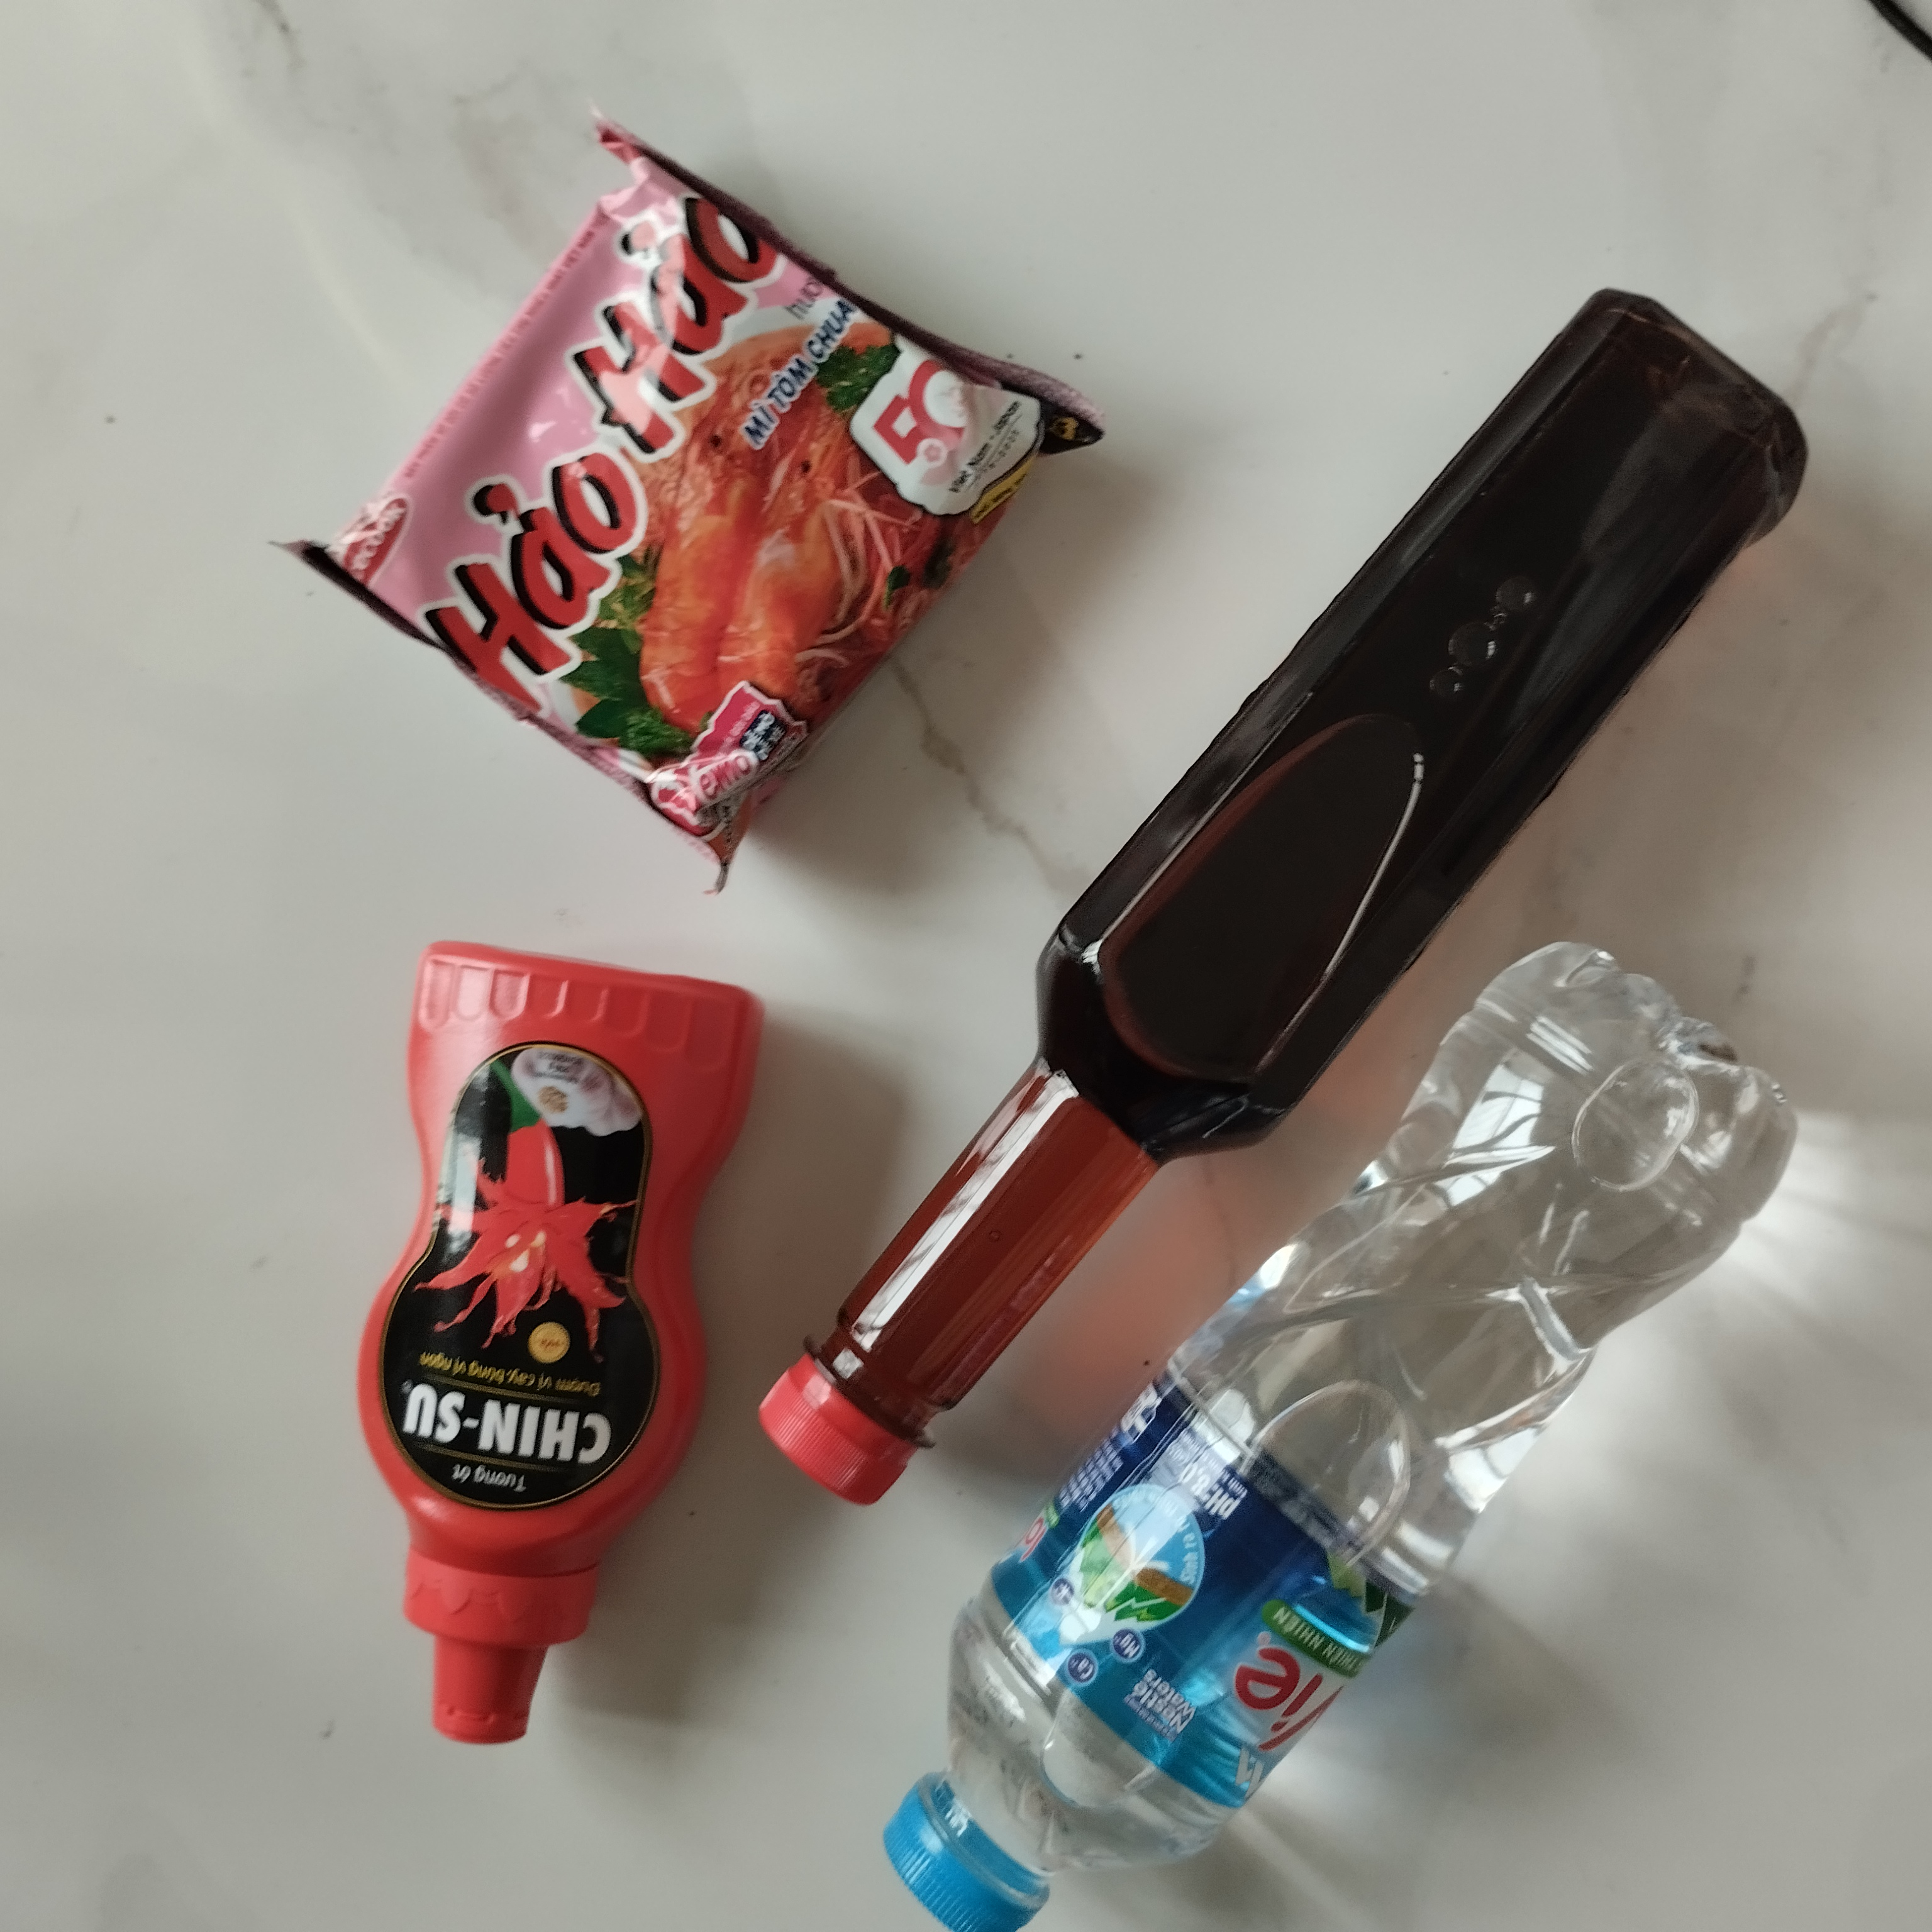Chinsu: (352, 932, 775, 1753)
Haohao: (301, 127, 1100, 855)
Lavie: (874, 927, 1799, 1932)
Namngu: (752, 274, 1805, 1511)
